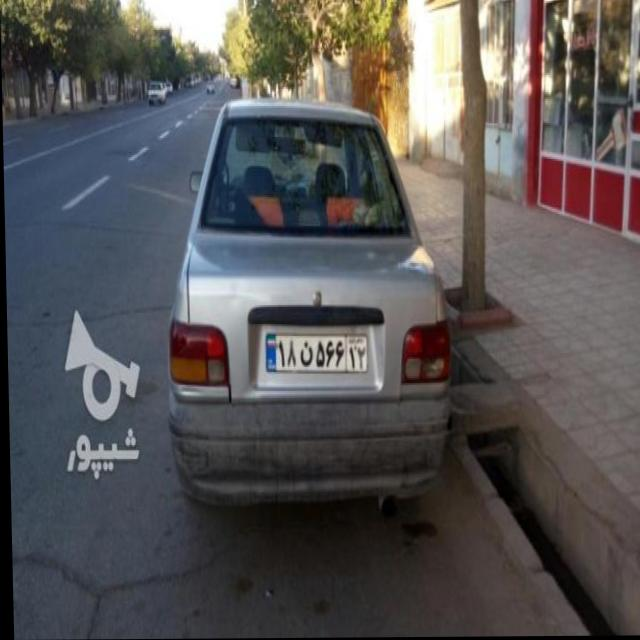licence: (264, 332, 365, 369)
